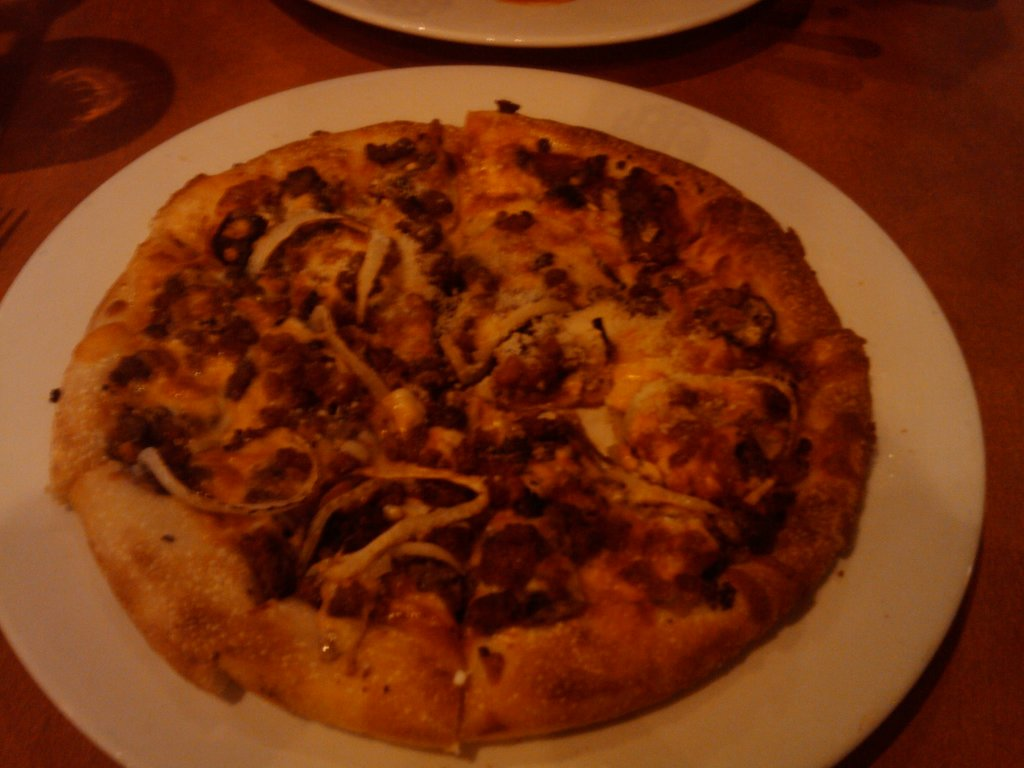pizza: (68, 94, 924, 731)
